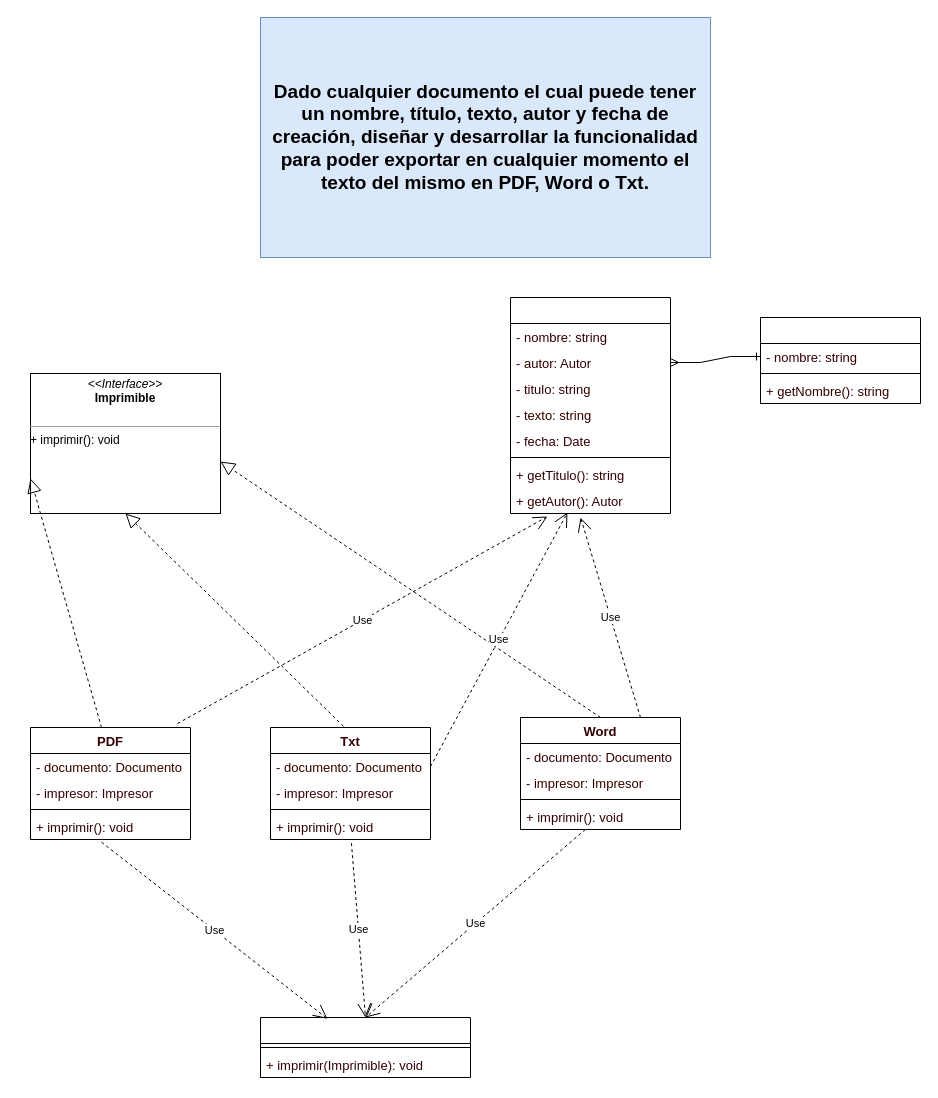
Some shapes in this 938 by 1098 pixel diagram are drawn without their labels. Here are the shapes that lost their labels. From the top down, the box of each, then its label:
(760, 316, 920, 404): Autor
(510, 296, 670, 514): Documento
(260, 1016, 470, 1078): Impresor
